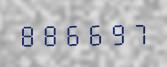eight: (39, 20, 60, 47), (17, 21, 38, 47)
nine: (106, 19, 127, 46)
seven: (128, 19, 149, 45)
six: (62, 20, 83, 47), (84, 19, 105, 46)
